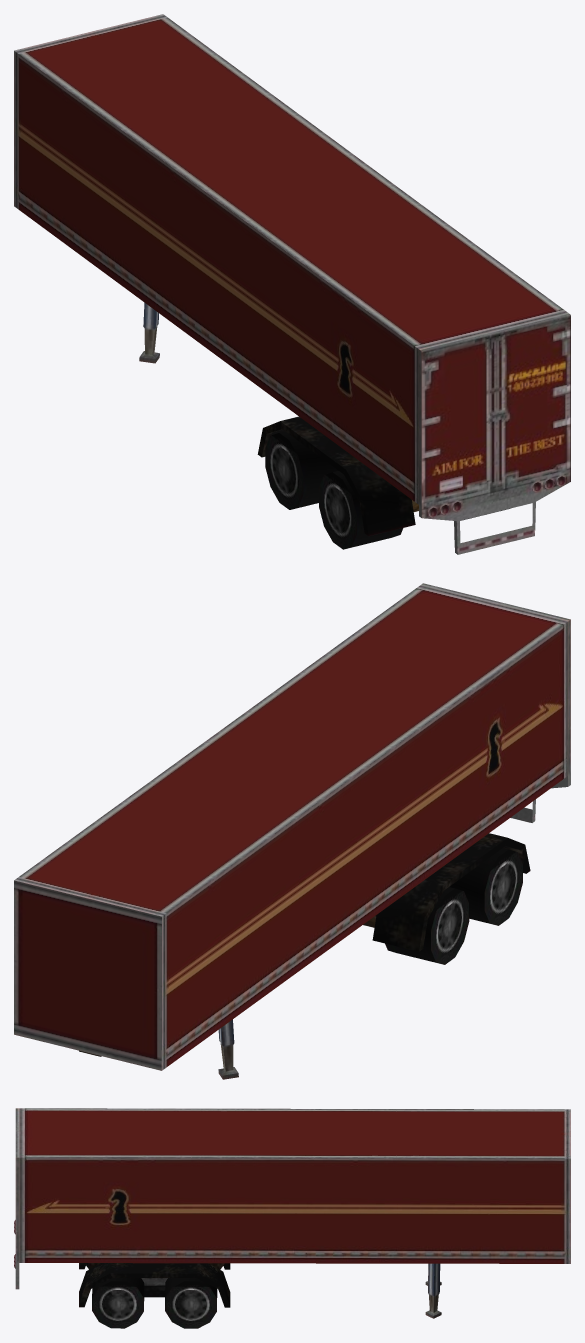
The model's file is p54_52_trailer_semi_brown.glb.
3 renders of one model, top to bottom at view 1: azimuth 30°, elevation 25°; view 2: azimuth 150°, elevation 25°; view 3: azimuth 270°, elevation 25°, orthographic. The views are drawn at different scales.
Parts seen in each view (by area): view 1: Body; view 2: Body; view 3: Body.
Boxes of the visible parts, x1,y1,x2,y2 form: Body: (14, 14, 570, 554); Body: (14, 583, 570, 1079); Body: (14, 1108, 570, 1328).
Size of the model in its own units: 3.02 by 4.3 by 12.91.
Materials: 1 (1 with a texture image).
